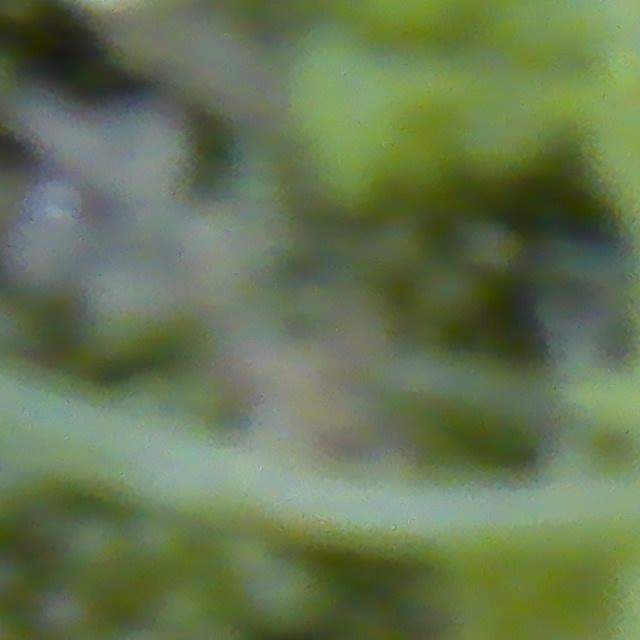SeaGrape: (236, 551, 336, 640), (53, 508, 131, 585), (127, 513, 192, 576), (33, 579, 98, 640)
